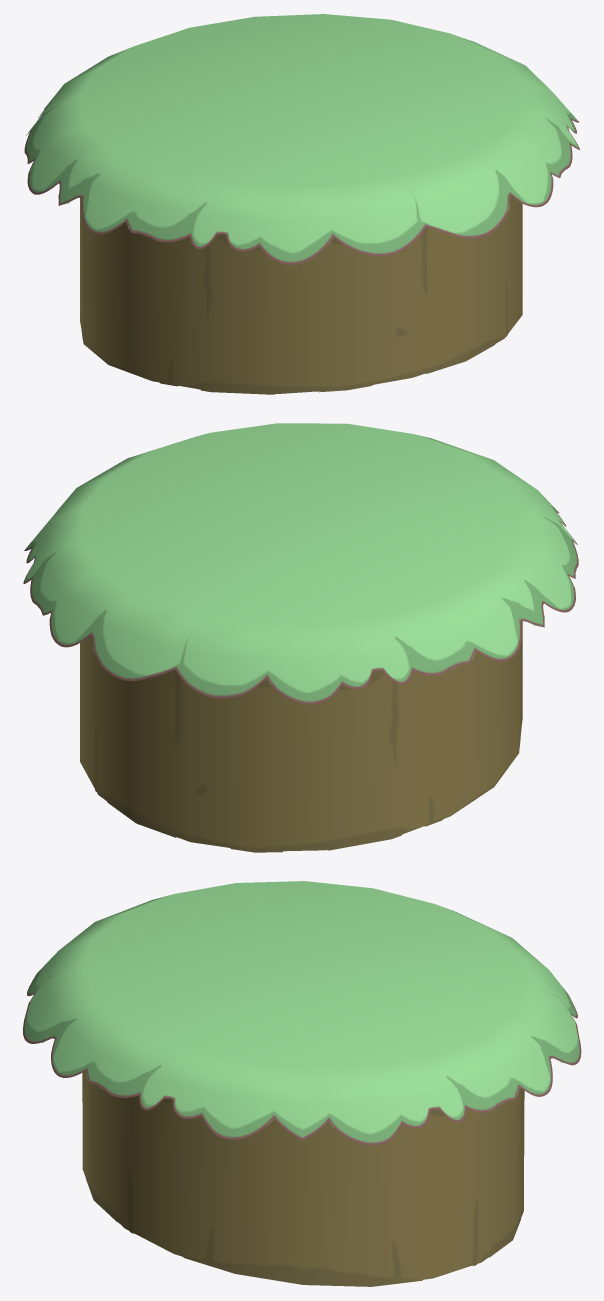
The model's file is Mesh_Adventure_Catch_Stage_3_SM.fbx.
3 renders of one model, top to bottom at view 1: azimuth 30°, elevation 25°; view 2: azimuth 150°, elevation 25°; view 3: azimuth 270°, elevation 25°, orthographic.
Visible parts, largest first — view 1: Mesh_Adventure_Catch_Stage_3; view 2: Mesh_Adventure_Catch_Stage_3; view 3: Mesh_Adventure_Catch_Stage_3.
Boxes of the visible parts, bbox=[...] form: Mesh_Adventure_Catch_Stage_3: bbox=[24, 14, 579, 394]; Mesh_Adventure_Catch_Stage_3: bbox=[23, 423, 578, 852]; Mesh_Adventure_Catch_Stage_3: bbox=[23, 881, 581, 1286].
Size of the model in its own units: 128 by 60.34 by 128.
